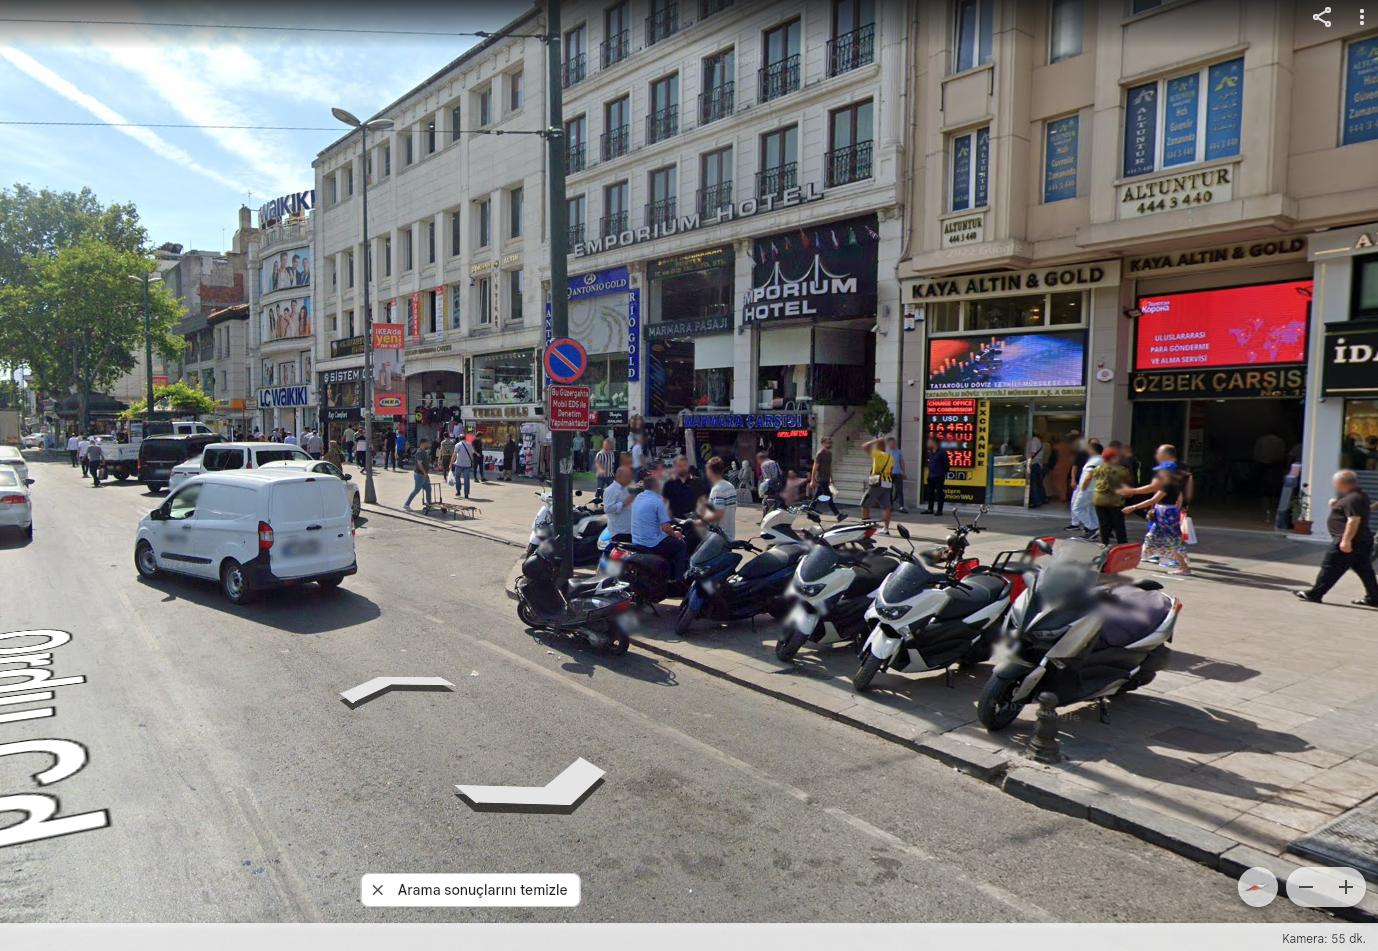nopark: (542, 339, 585, 383)
